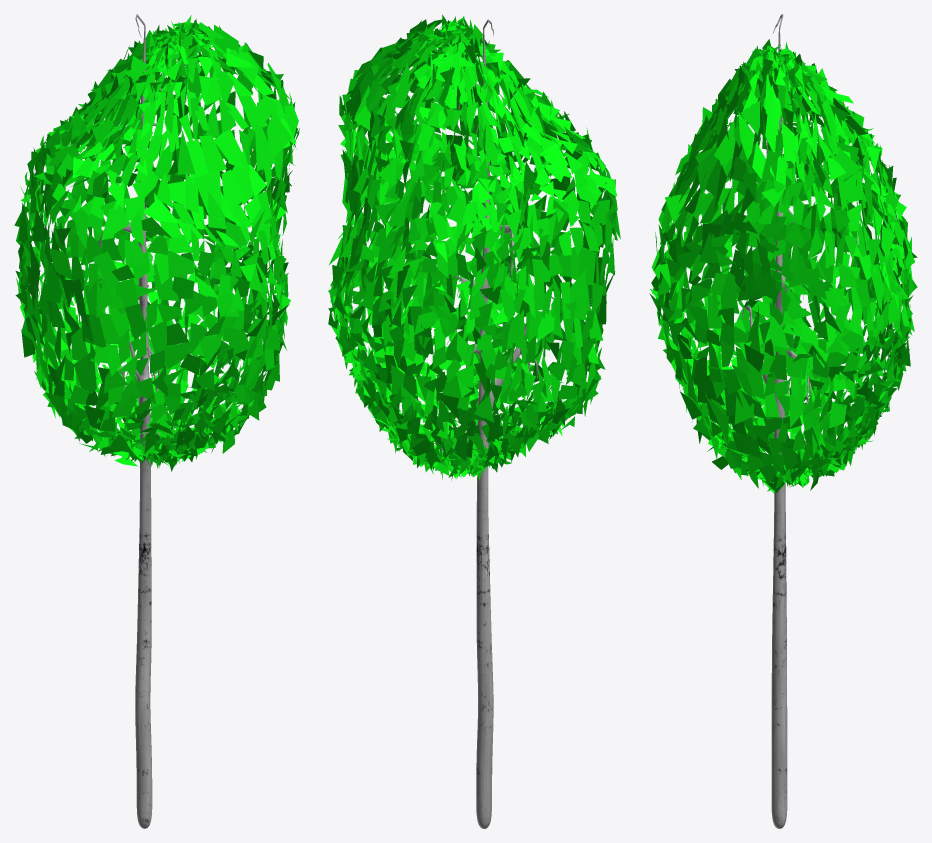
Rendered from Trunk3bake.015.fbx.
3 views of the same model, side by side, from view 1: azimuth 30°, elevation 25°; view 2: azimuth 150°, elevation 25°; view 3: azimuth 270°, elevation 25° (orthographic).
Parts seen in each view (by area): view 1: Trunk3bake.015; view 2: Trunk3bake.015; view 3: Trunk3bake.015.
Boxes of the visible parts, x1,y1,x2,y2 form: Trunk3bake.015: (14,14,299,828); Trunk3bake.015: (328,14,620,828); Trunk3bake.015: (649,14,917,828).
Bounding box in the file's own units: 873 × 2612 × 783.
Materials: 2 (1 with a texture image).
